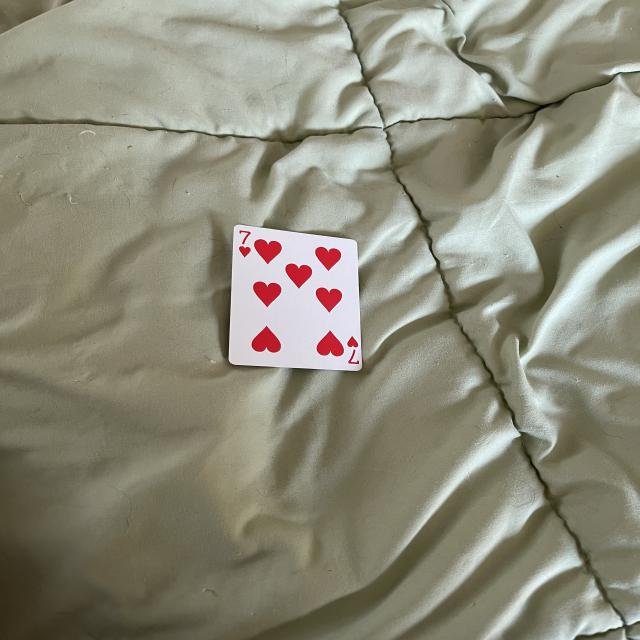7 of hearts: (229, 224, 364, 371)
